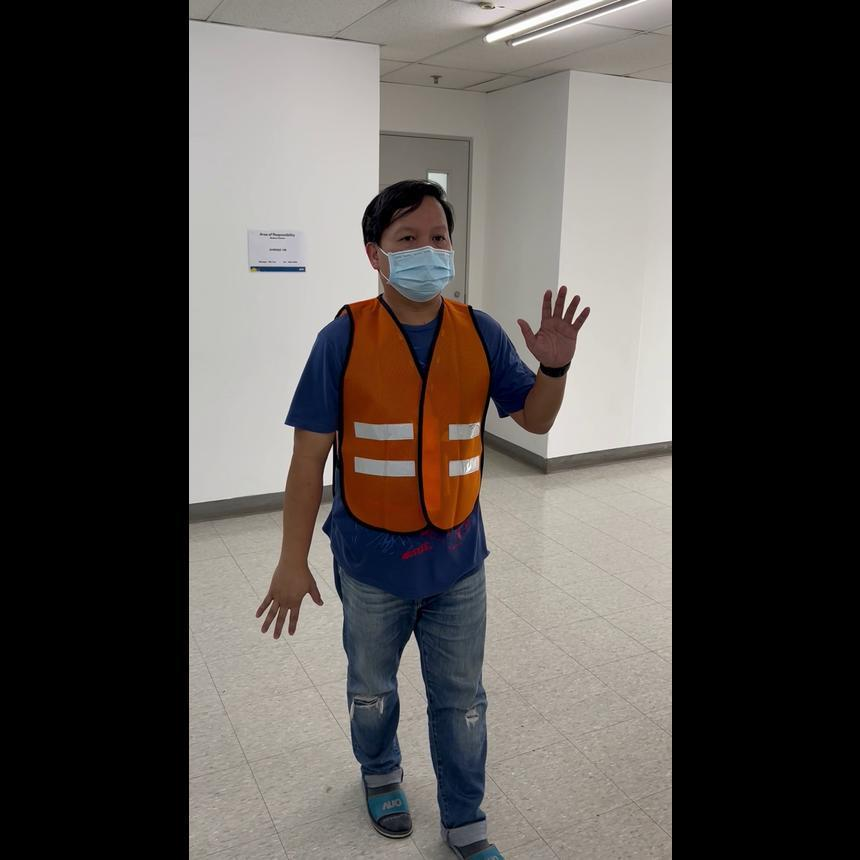No-gloves: (515, 277, 588, 370), (254, 557, 321, 638)
